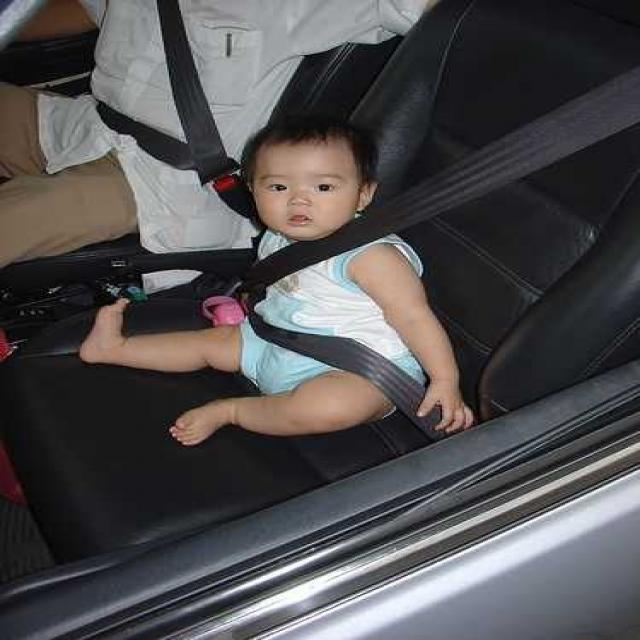seatbelt: (218, 98, 599, 392), (87, 18, 253, 194)
